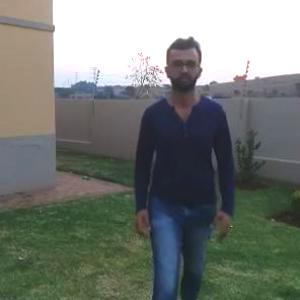follow: (133, 28, 237, 299)
